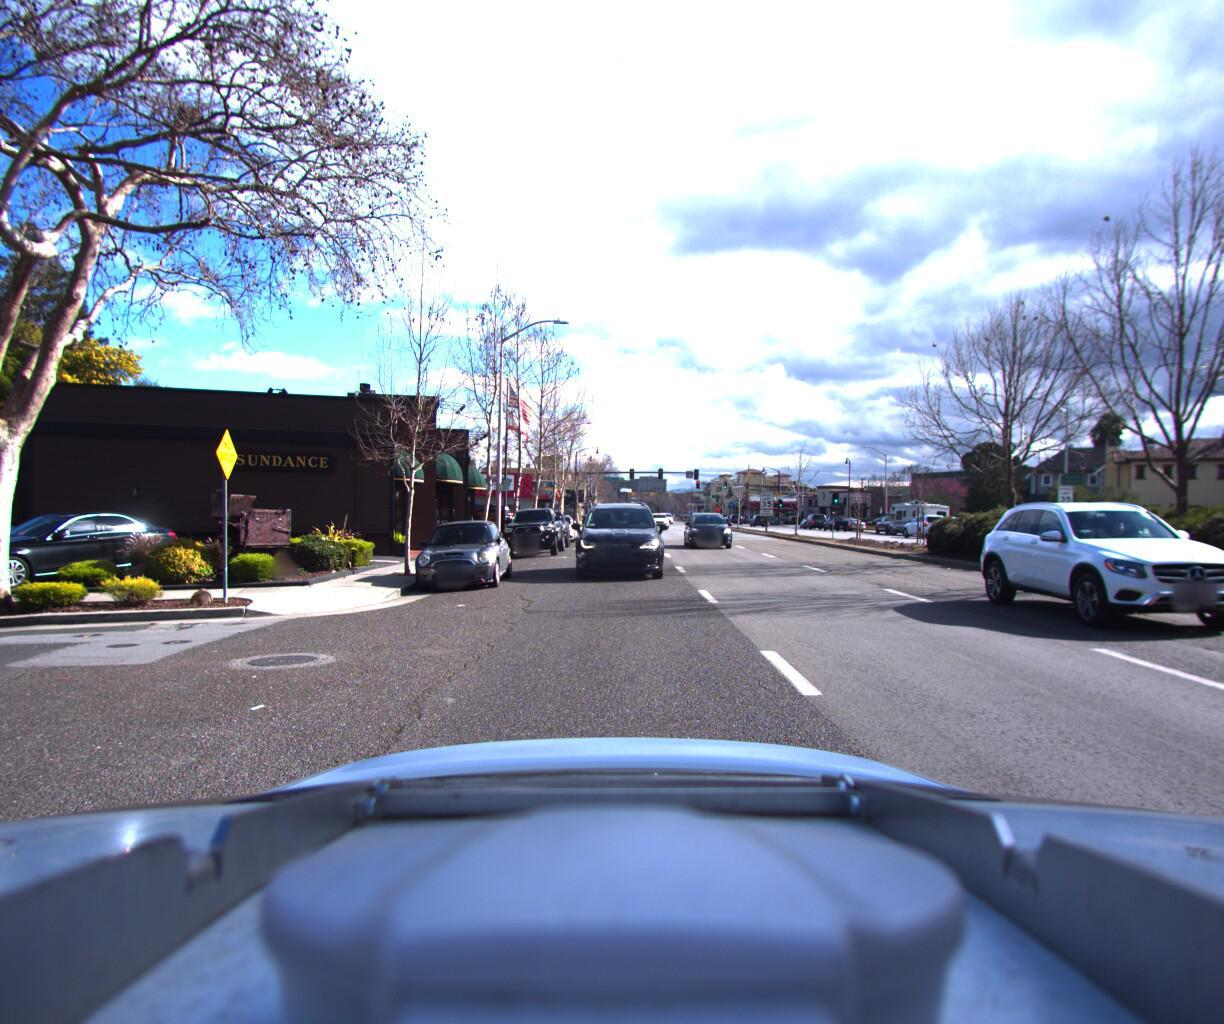car: (1019, 499, 1224, 664), (0, 507, 198, 595), (412, 515, 513, 591), (579, 496, 665, 580), (0, 502, 47, 598), (499, 504, 566, 559), (683, 506, 738, 551), (525, 505, 571, 547), (896, 511, 950, 539), (537, 511, 578, 544), (872, 511, 911, 533), (822, 513, 852, 529), (649, 507, 670, 526)
other_vehicle: (884, 494, 951, 536)
